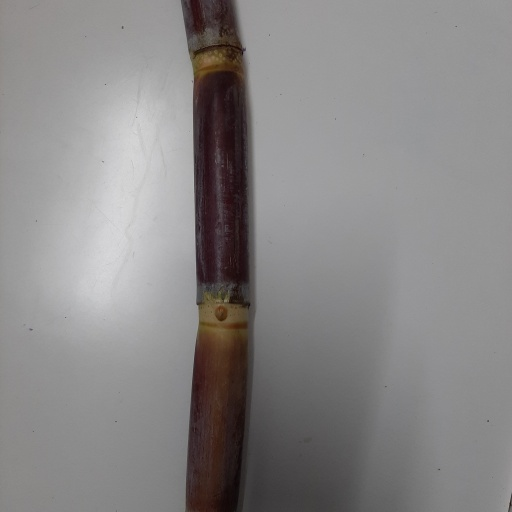Bud: (215, 305, 228, 324)
